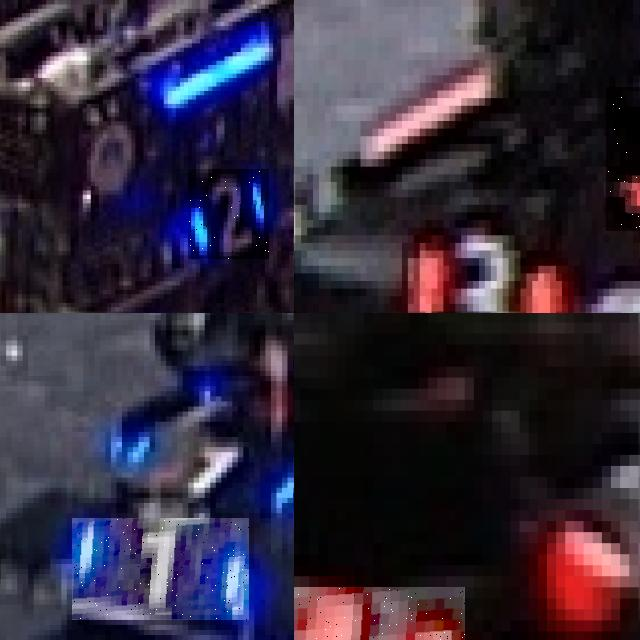B1: (72, 518, 249, 620), (122, 431, 294, 513)
B2: (188, 169, 269, 259)
R3: (378, 205, 567, 313), (294, 587, 464, 640), (606, 86, 640, 231)
